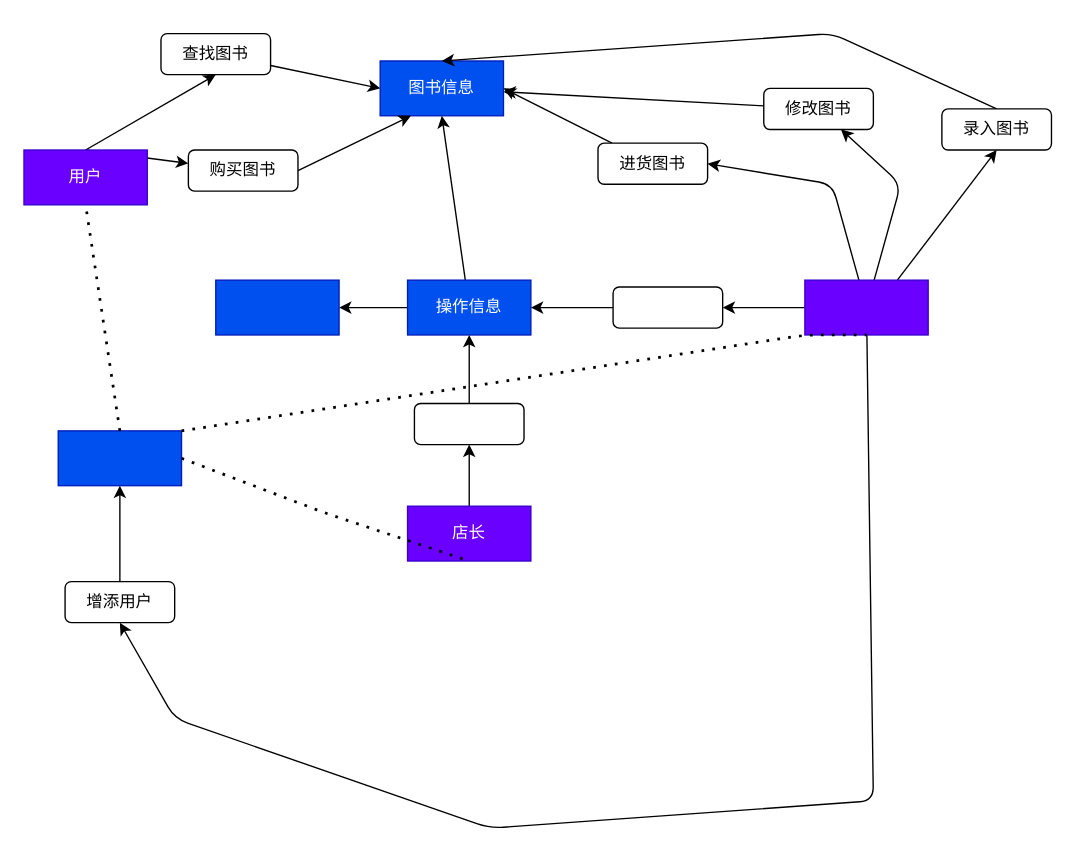
Image size: 1075x863. Some labels were removed from this diagram. The shapes that lost their labels are listed below. From the top down, each one's box as (x1, y1, x2, y2) in pixels, then its label:
(214, 279, 339, 335): 盈利信息
(612, 286, 723, 328): 产生
(804, 279, 928, 335): 店员
(413, 402, 524, 445): 查找
(57, 429, 182, 486): 用户信息
